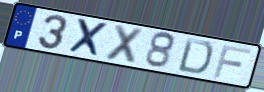3: (35, 14, 69, 52)
8: (143, 31, 177, 71)
D: (175, 36, 215, 76)
F: (211, 43, 253, 80)
X: (102, 22, 146, 66), (66, 17, 110, 60)
